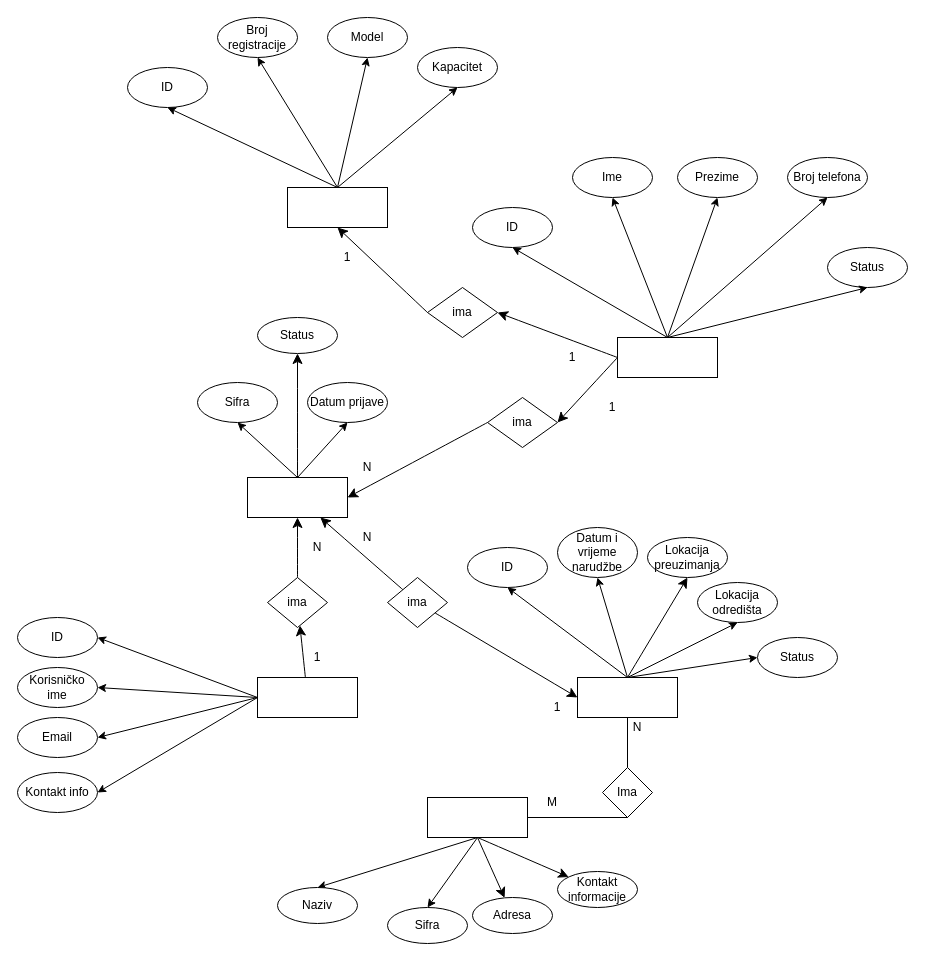
Image size: 925x961. Some labels were removed from this diagram. Each missing label, with the centre of its shape:
Dispečer: point (477, 817)
Korisnik: point (307, 697)
Narudžba vožnje: point (627, 697)
Prijava: point (297, 497)
Vozač: point (667, 357)
Vozilo: point (337, 207)
